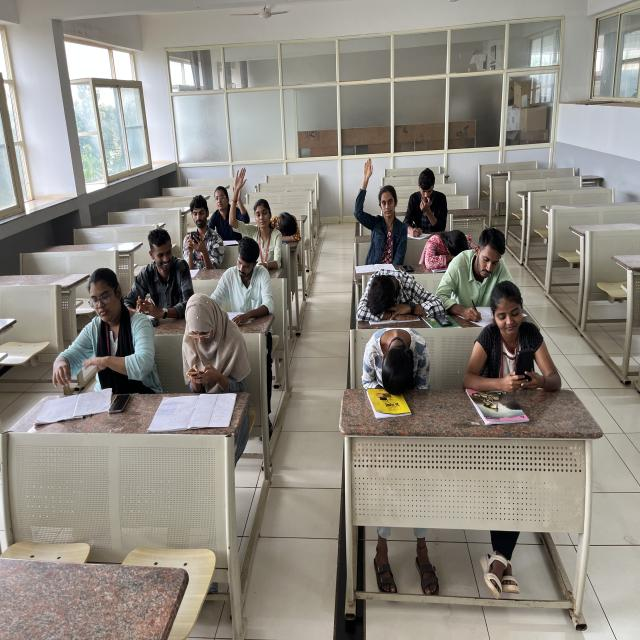Hand Rising: (350, 154, 406, 254), (229, 165, 283, 255)
Sleeping: (360, 326, 441, 392), (358, 261, 442, 320), (419, 227, 478, 271), (270, 211, 306, 246)
Using Phone: (468, 284, 574, 398), (169, 296, 244, 396), (119, 230, 190, 326), (175, 195, 221, 269)
Writing: (437, 225, 523, 324), (401, 169, 448, 240)
